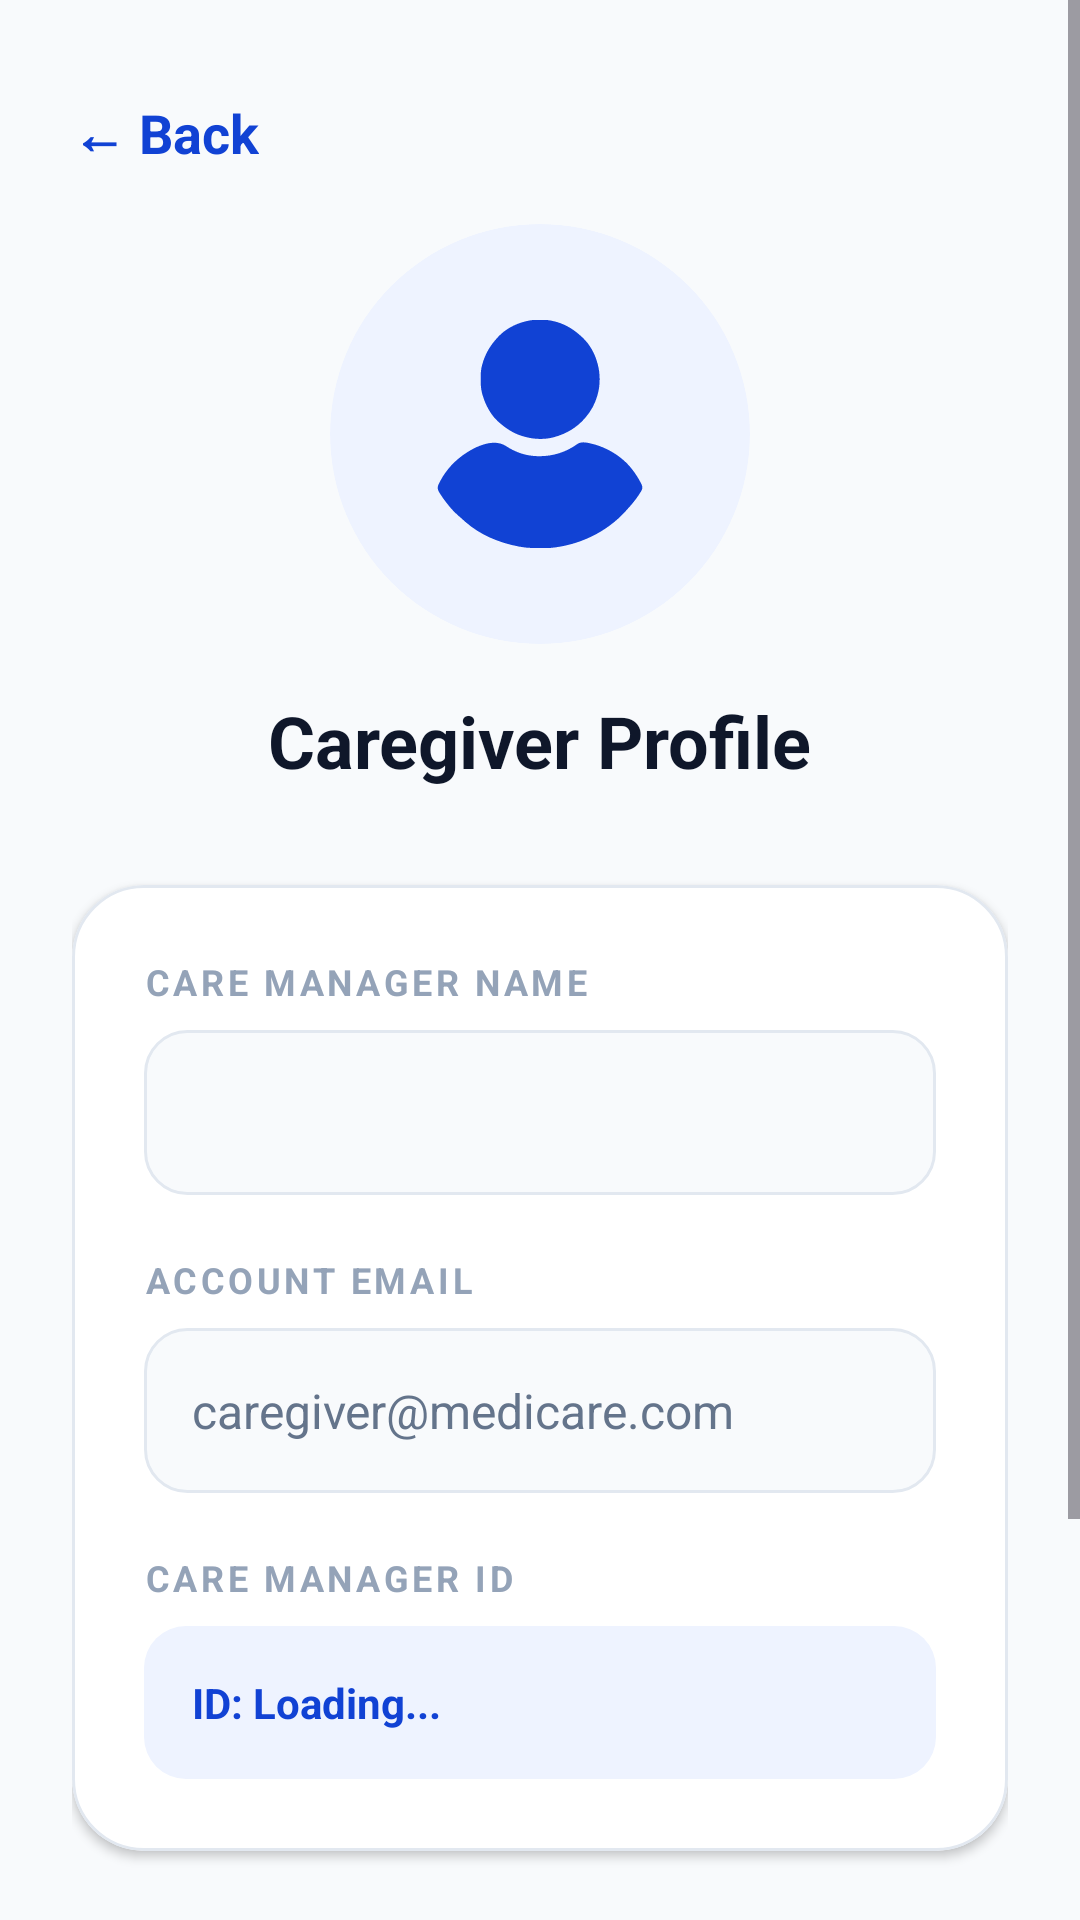

Point at icon controls on the screen. Image size 1080 × 1920, points as point (x, y).
user: point (540, 434)
